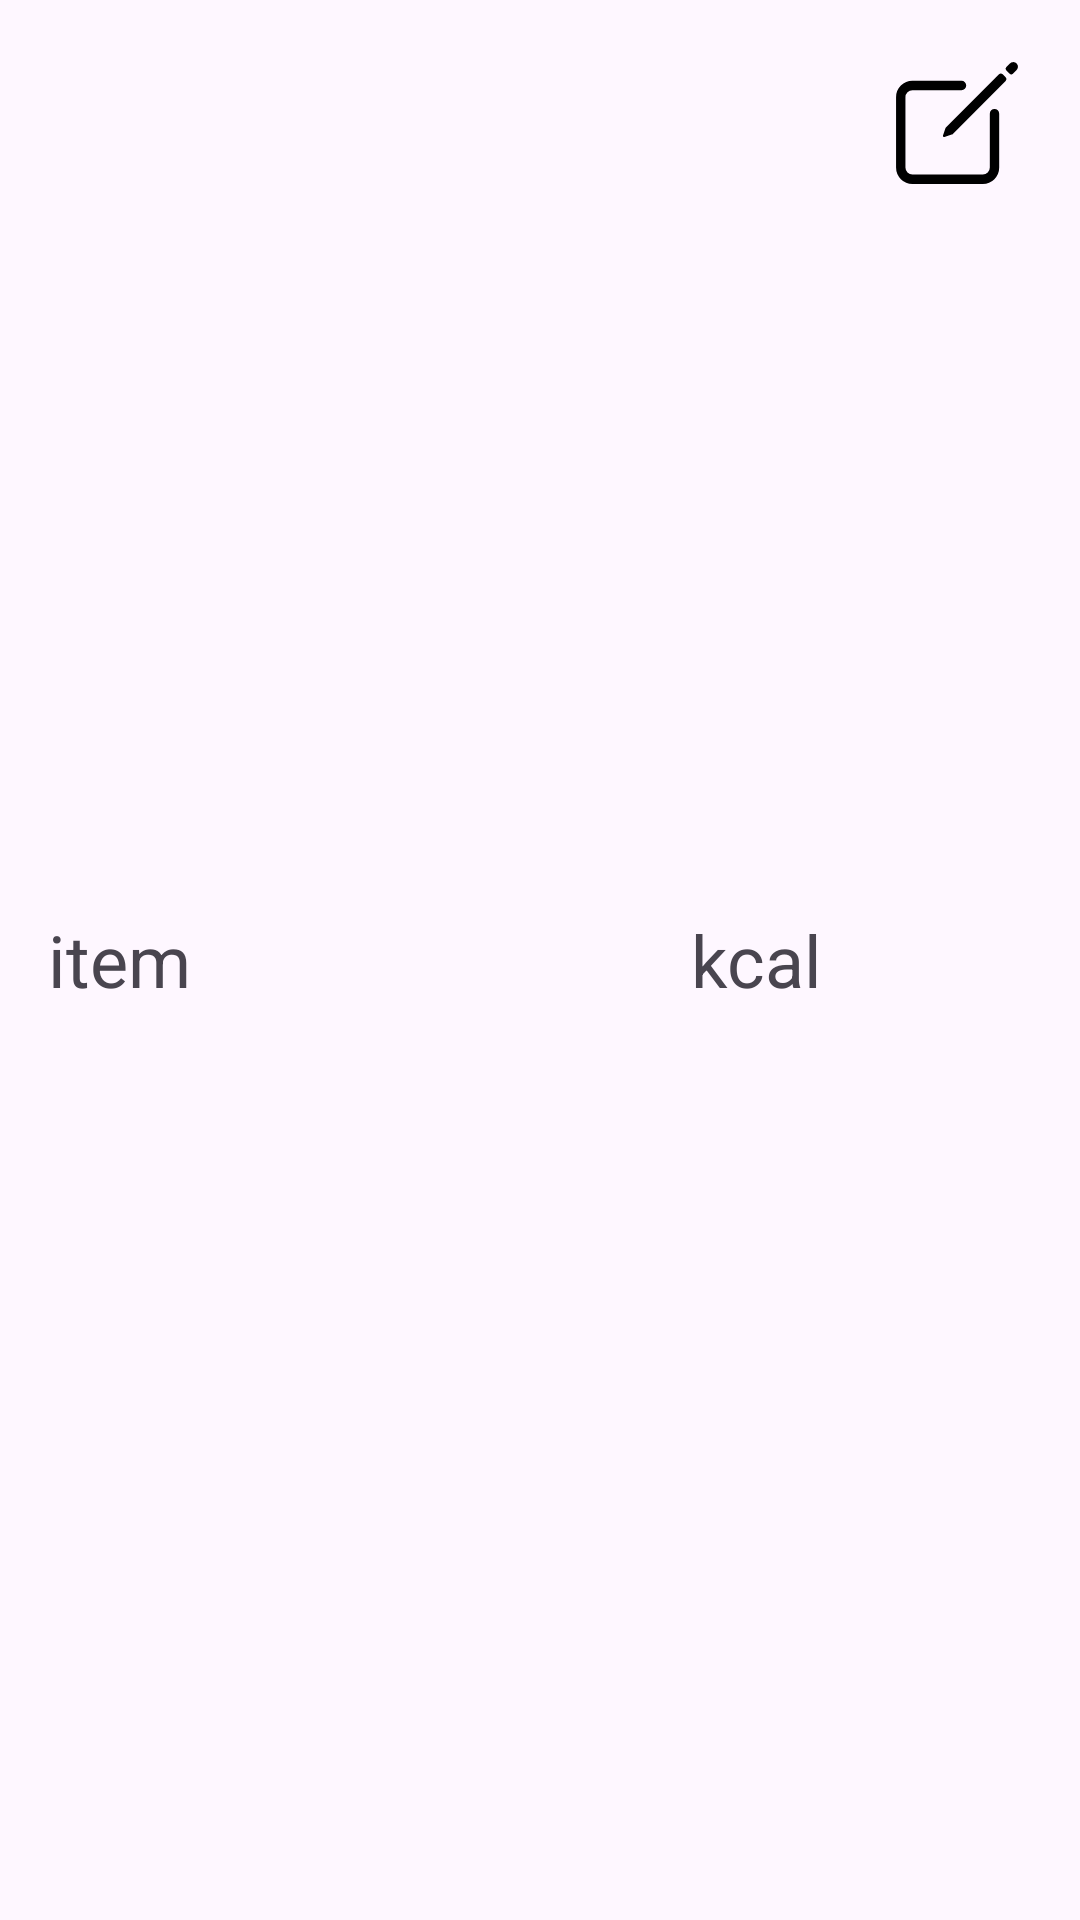

Icons on this 1080*1920 Android screen, each with its box as (x1, y1, x2, y2):
Editar: (896, 62, 1018, 184)
